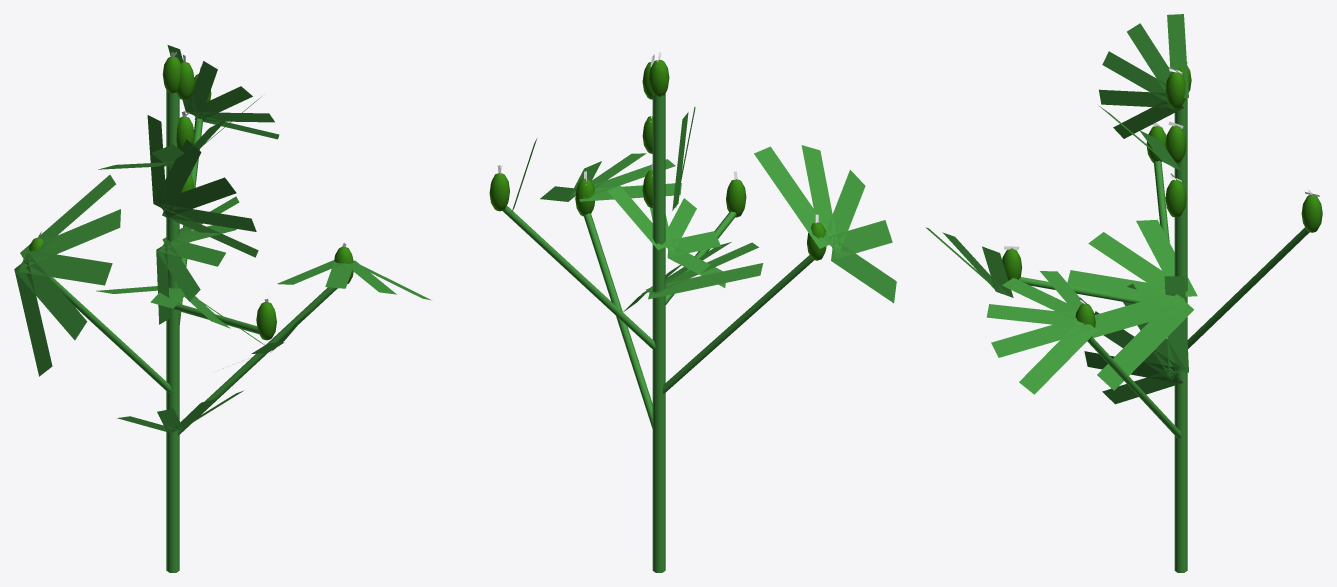
Rendered from plant-stage--early-flower.glb.
3 views of the same model, side by side, from view 1: azimuth 30°, elevation 25°; view 2: azimuth 150°, elevation 25°; view 3: azimuth 270°, elevation 25° (orthographic).
Visible parts, largest first — view 1: plant_leaves, plant_stem, plant_buds; view 2: plant_leaves, plant_stem, plant_buds; view 3: plant_leaves, plant_stem, plant_buds.
Part boxes in pixels (bbox=[...]): plant_leaves: bbox=[14, 45, 431, 432]; plant_stem: bbox=[49, 90, 337, 572]; plant_buds: bbox=[29, 56, 353, 340]; plant_leaves: bbox=[511, 106, 896, 312]; plant_stem: bbox=[502, 93, 813, 572]; plant_buds: bbox=[489, 59, 826, 260]; plant_leaves: bbox=[925, 14, 1197, 404]; plant_stem: bbox=[1019, 98, 1309, 572]; plant_buds: bbox=[1002, 65, 1322, 341].
Bounding box in the file's own units: 0.5115 × 0.7182 × 0.4686.
